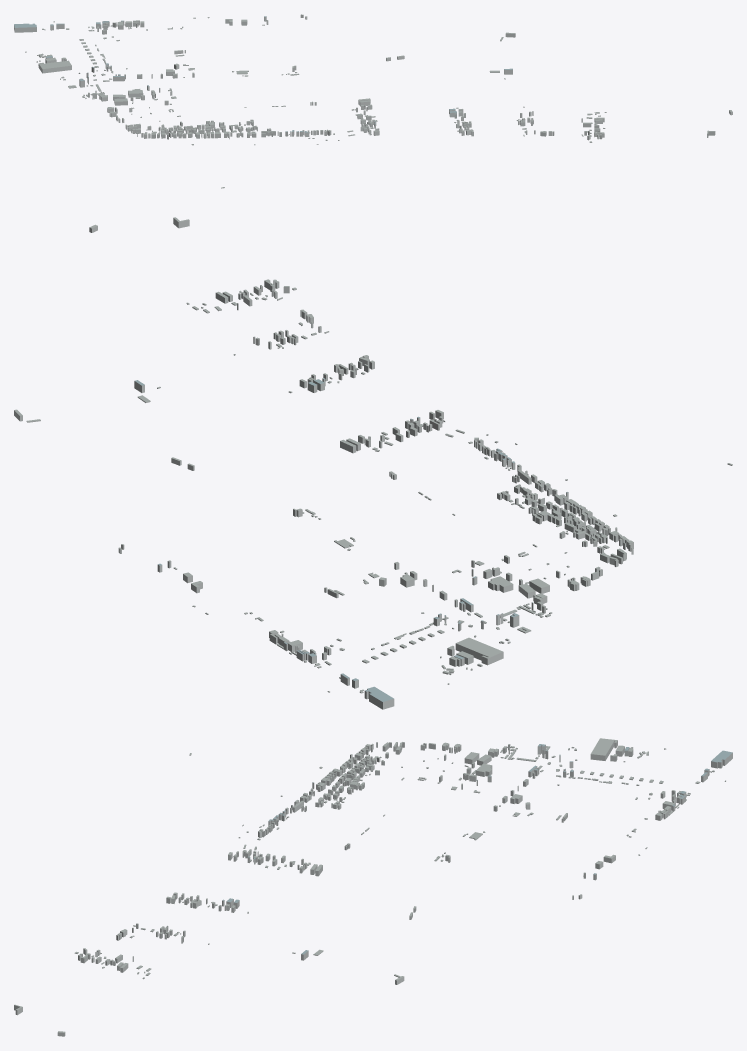
Rendered from far.glb.
3 views of the same model, one above another, from view 1: azimuth 30°, elevation 25°; view 2: azimuth 150°, elevation 25°; view 3: azimuth 270°, elevation 25° (orthographic). The views are drawn at different scales.
Bounding box in the file's own units: 2019 × 26.9 × 2094.
